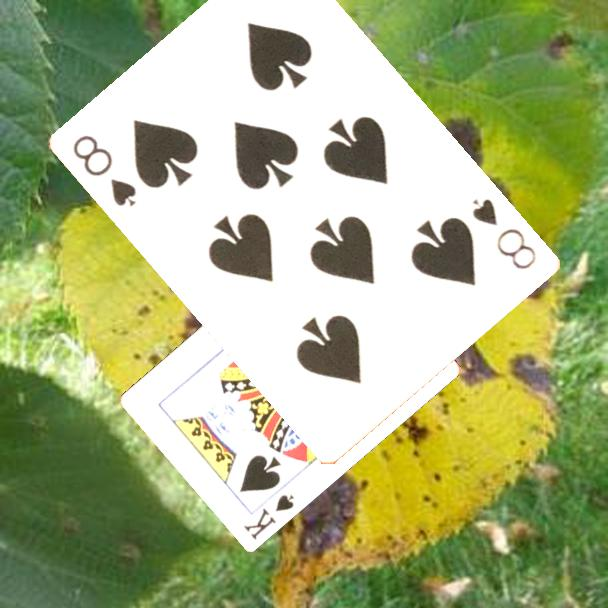s08: (469, 195, 540, 273), (70, 131, 140, 210)
s13: (240, 490, 297, 543)
